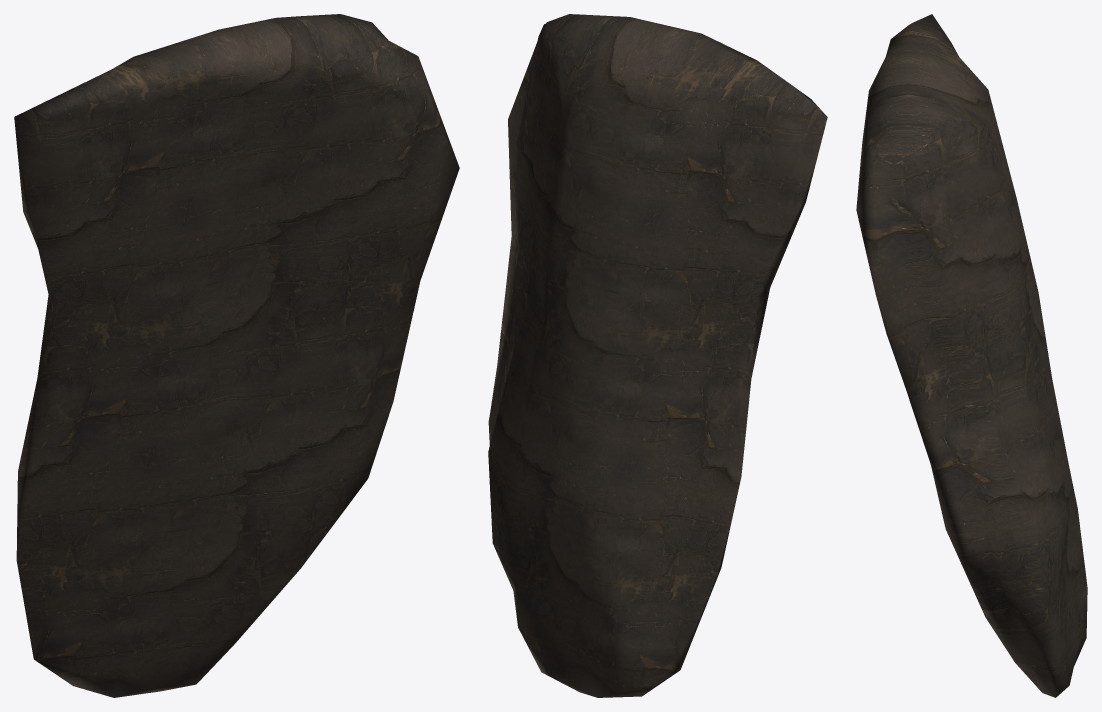
Rendered from cliff_slab_a_lod2.gltf.
The picture shows the model from 3 angles, left to right: view 1: azimuth 30°, elevation 25°; view 2: azimuth 150°, elevation 25°; view 3: azimuth 270°, elevation 25°; orthographic projection. The views are drawn at different scales.
Parts seen in each view (by area): view 1: cliff_slab_a_LOD2; view 2: cliff_slab_a_LOD2; view 3: cliff_slab_a_LOD2.
Part boxes in pixels (x1,y1,x2,y2): cliff_slab_a_LOD2: [14, 14, 459, 697]; cliff_slab_a_LOD2: [488, 14, 827, 697]; cliff_slab_a_LOD2: [856, 14, 1087, 697].
Size of the model in its own units: 13.09 by 22 by 7.45.
Materials: 1 (1 with a texture image).
